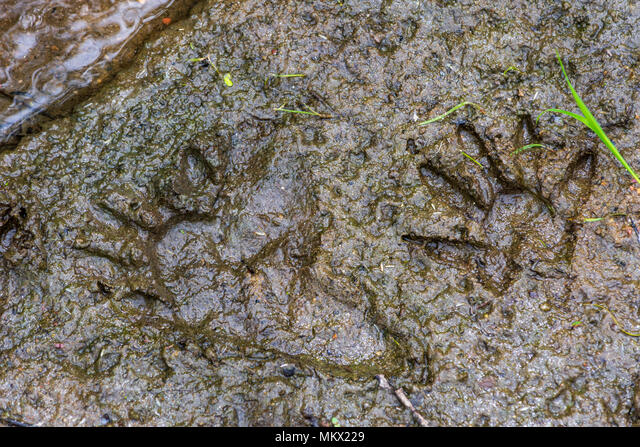raccoon: (394, 75, 605, 307)
